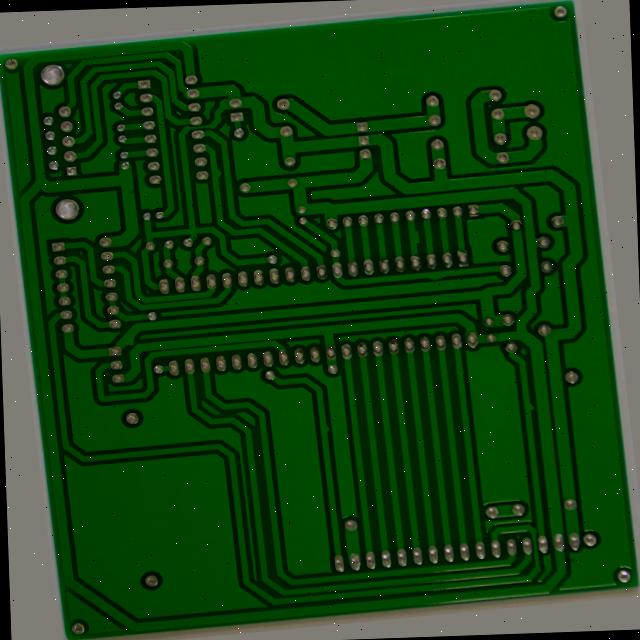spur: (434, 274, 462, 286), (424, 227, 439, 248), (309, 427, 327, 444), (533, 417, 548, 434), (217, 149, 231, 164)
